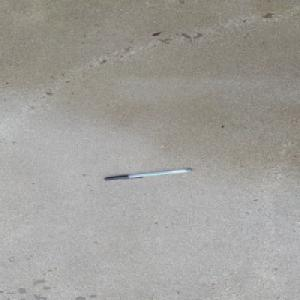Pen: (103, 167, 193, 181)
